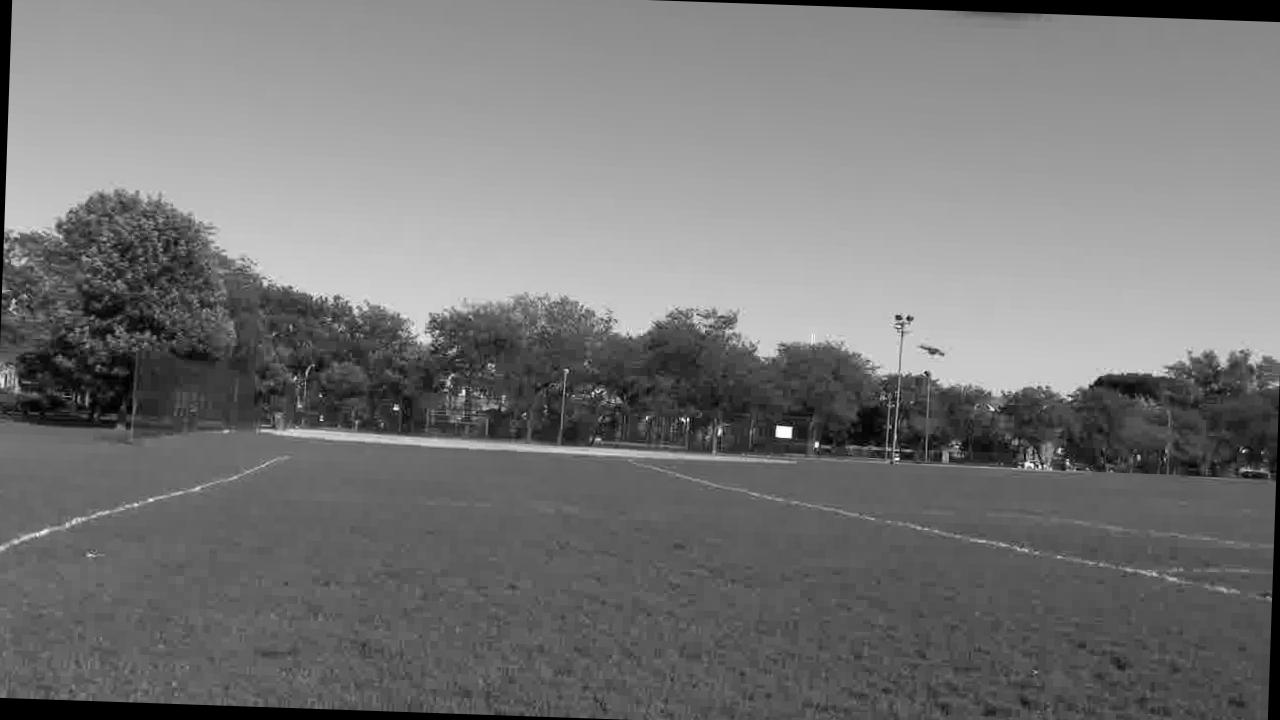drone: (911, 336, 946, 362)
